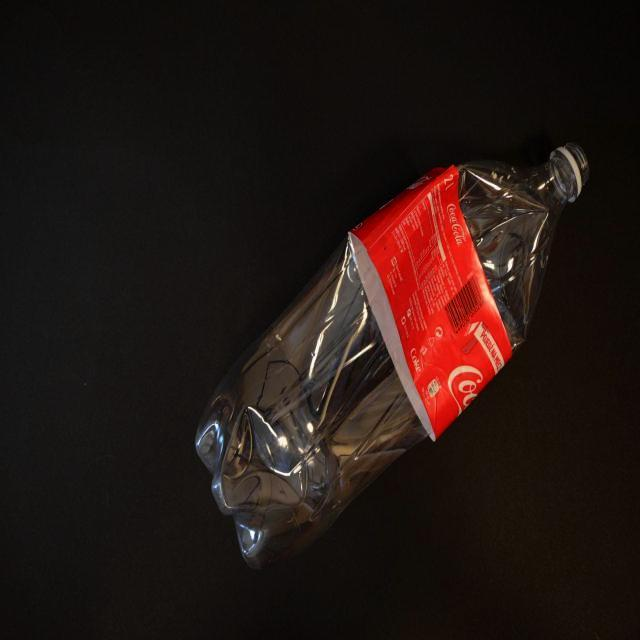bottle: (195, 142, 590, 570)
